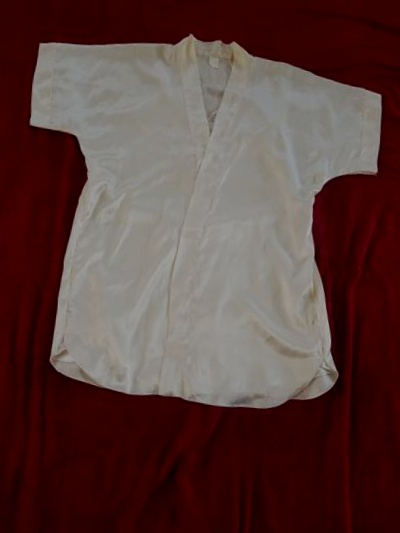Blouse: (6, 8, 397, 437)
